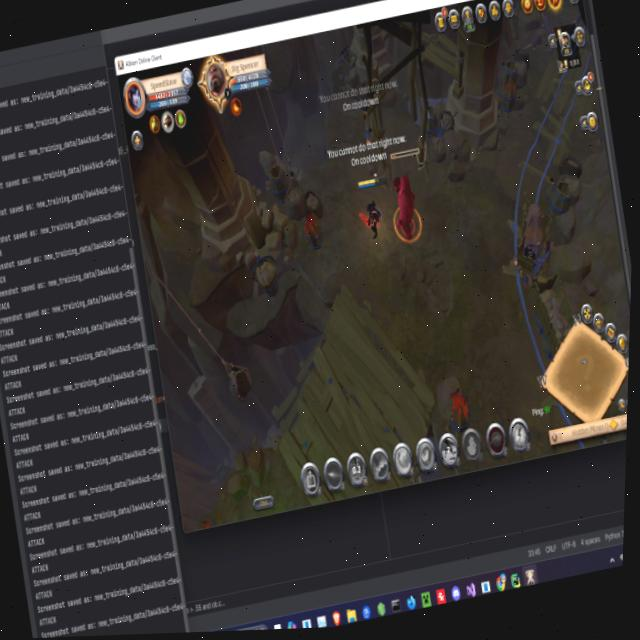ore: (377, 139, 438, 253)
red: (351, 172, 397, 246)
